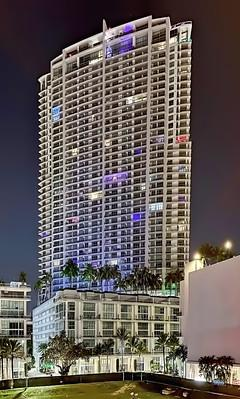building: (22, 14, 196, 380)
